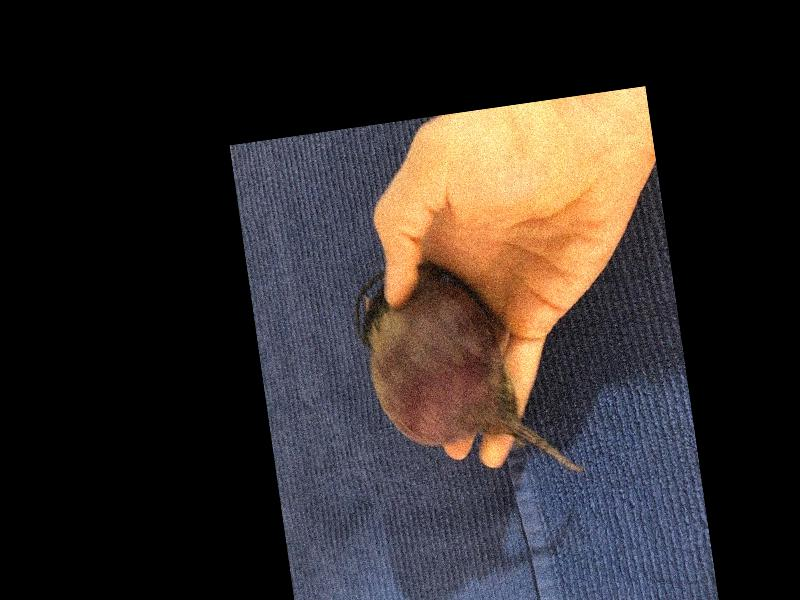Beet: (348, 247, 584, 501)
